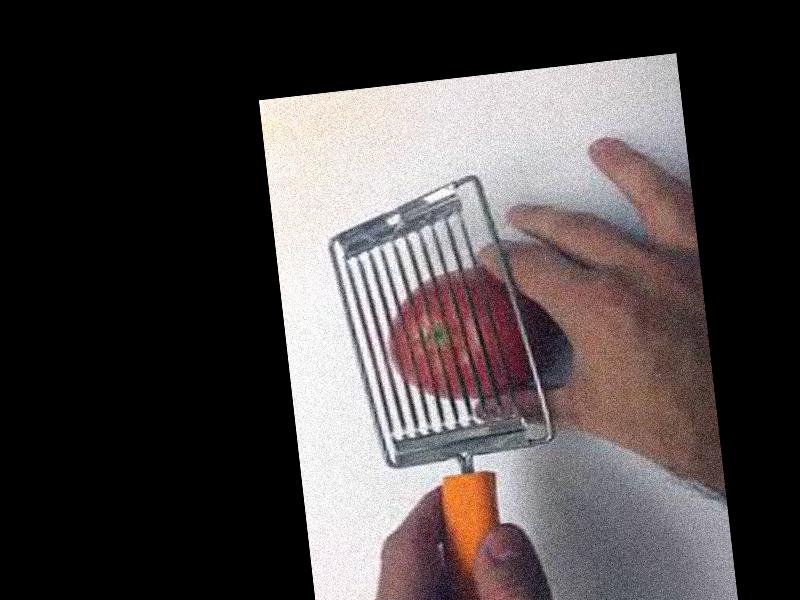Tomato: (382, 264, 556, 410)
